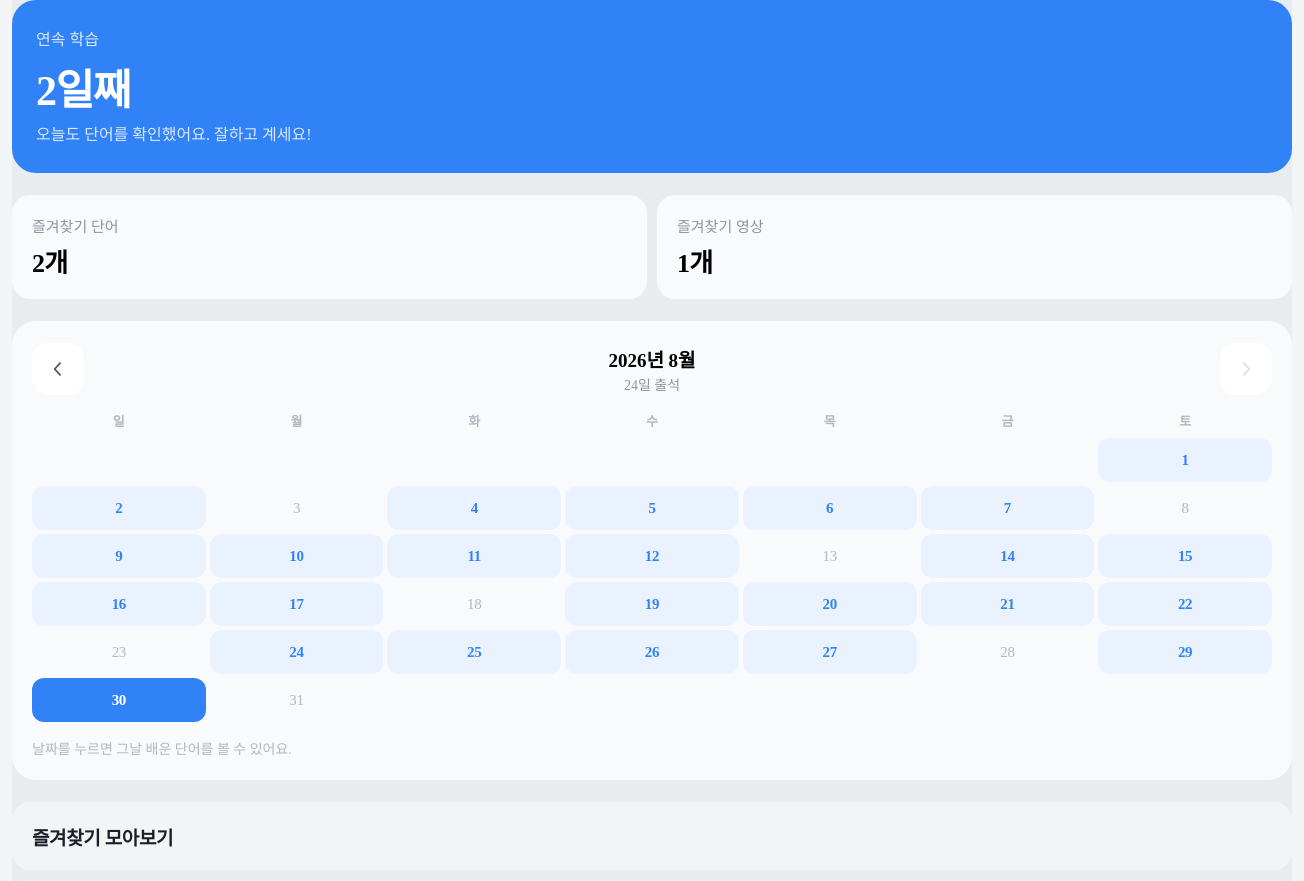
Test: 마이페이지 › 미출석일을 누르면 토스트가 뜬다
Click the button "3" at [297, 508], box [210, 486, 383, 530]
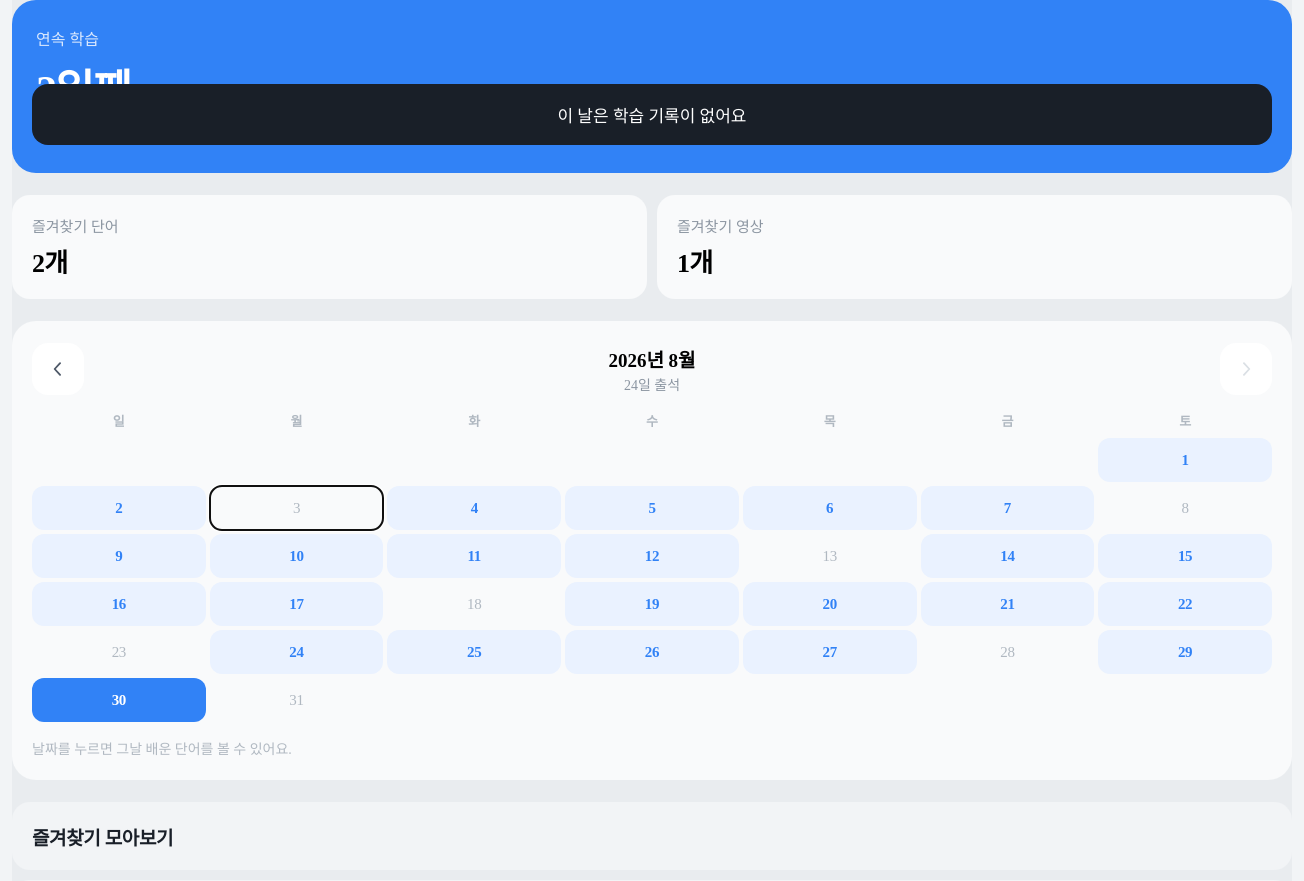
Expected: the message reads "이 날은 학습 기록이 없어요", [558, 107, 746, 126]
